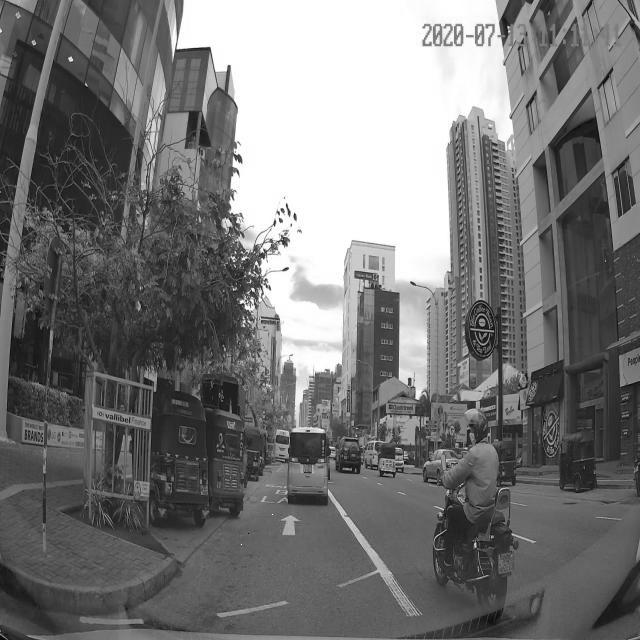forward: (241, 514, 374, 551)
